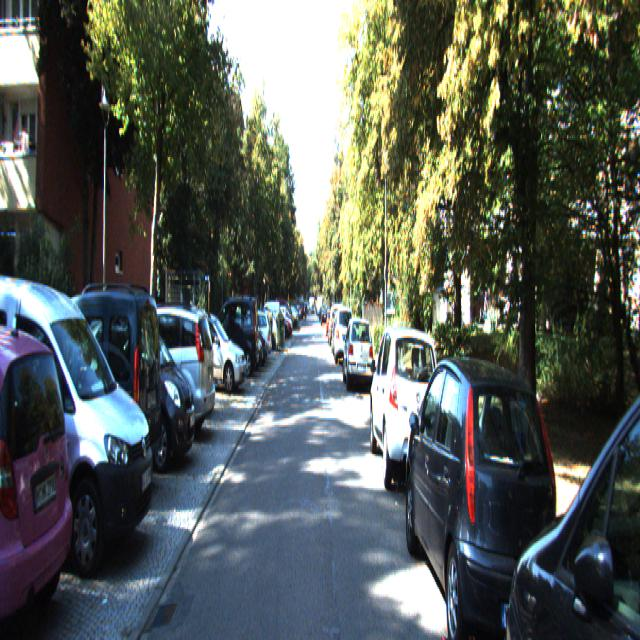Car: (401, 333, 570, 638), (0, 258, 161, 573), (506, 284, 640, 638), (9, 279, 164, 513), (0, 304, 75, 638), (76, 312, 198, 476), (96, 304, 216, 451), (369, 319, 446, 500), (174, 309, 247, 396), (202, 296, 258, 383), (224, 306, 272, 364), (343, 316, 374, 396), (334, 305, 354, 366)
